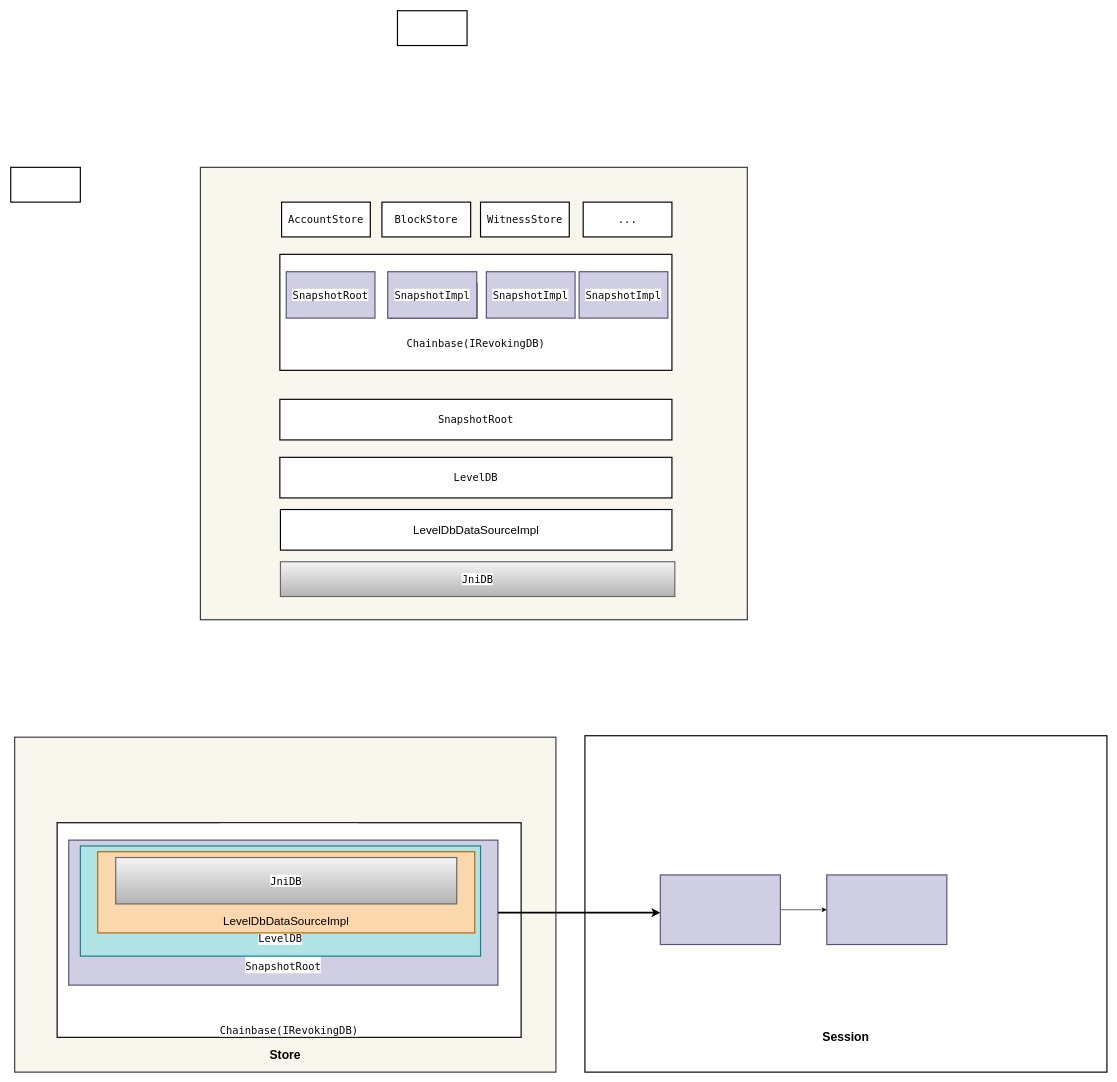
This 1117x1082 diagram has some shape labels left out. Each missing label, with the centre of its shape:
"SnapshotImpl 1" goes at point 720,909.
"SnapshotImpl 2" goes at point 886,909.
